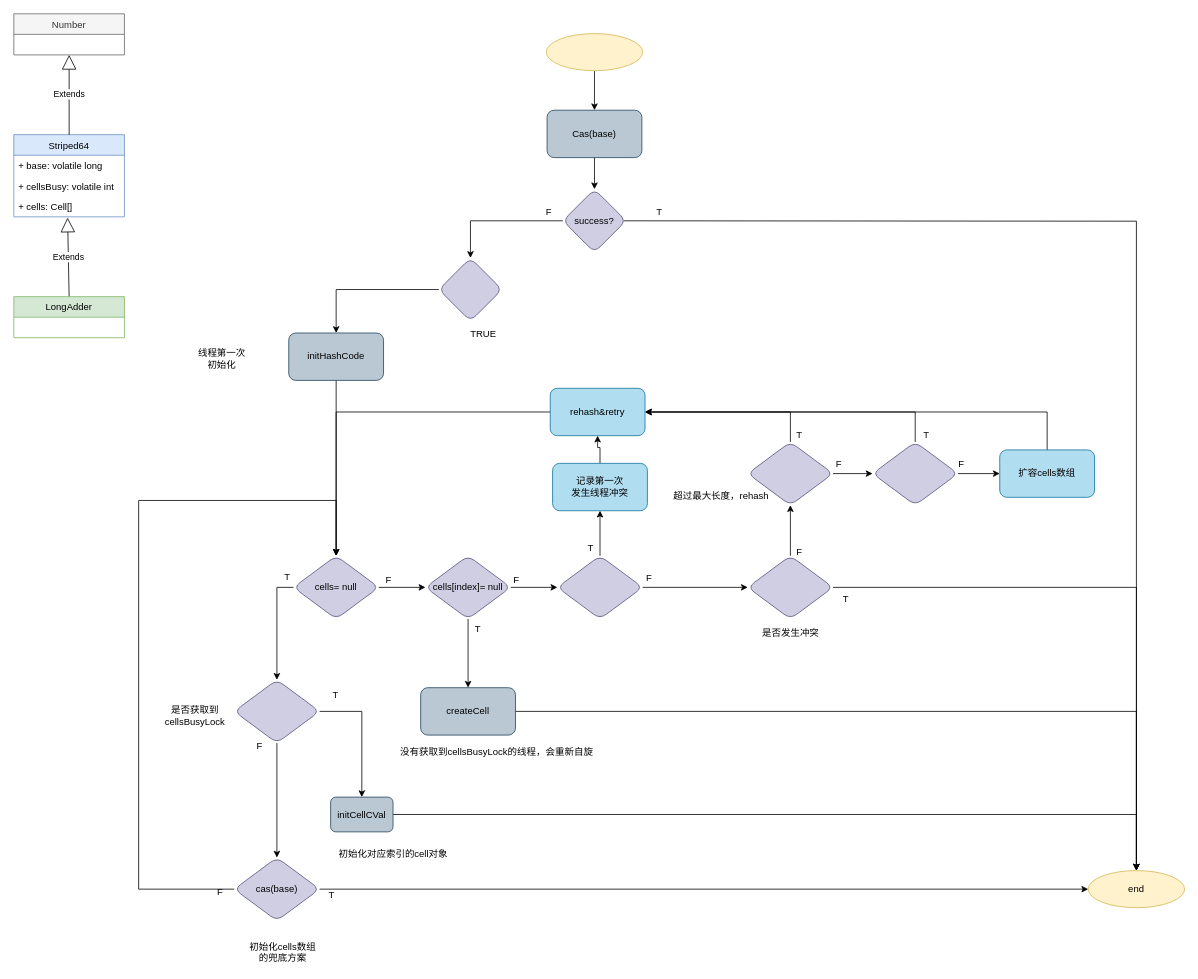
Image size: 1198x979. Some labels were removed from this diagram. The shapes that lost their labels are listed below. From the top down, each one's centre as x and y in pixels, then its label:
At (594,52): "start".
At (470,289): "probe=0?".
At (790,473): "cells长度是否 超过限制".
At (915,473): "其他线程是否 扩容cells数组".
At (600,587): "是否发生过冲突".
At (790,587): "cas(cell)".
At (276,711): "createCellsArray".
